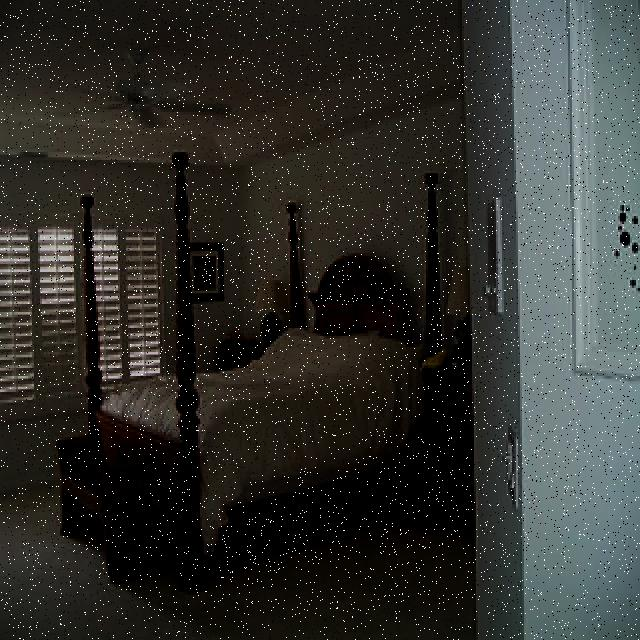bed: (98, 248, 431, 499)
